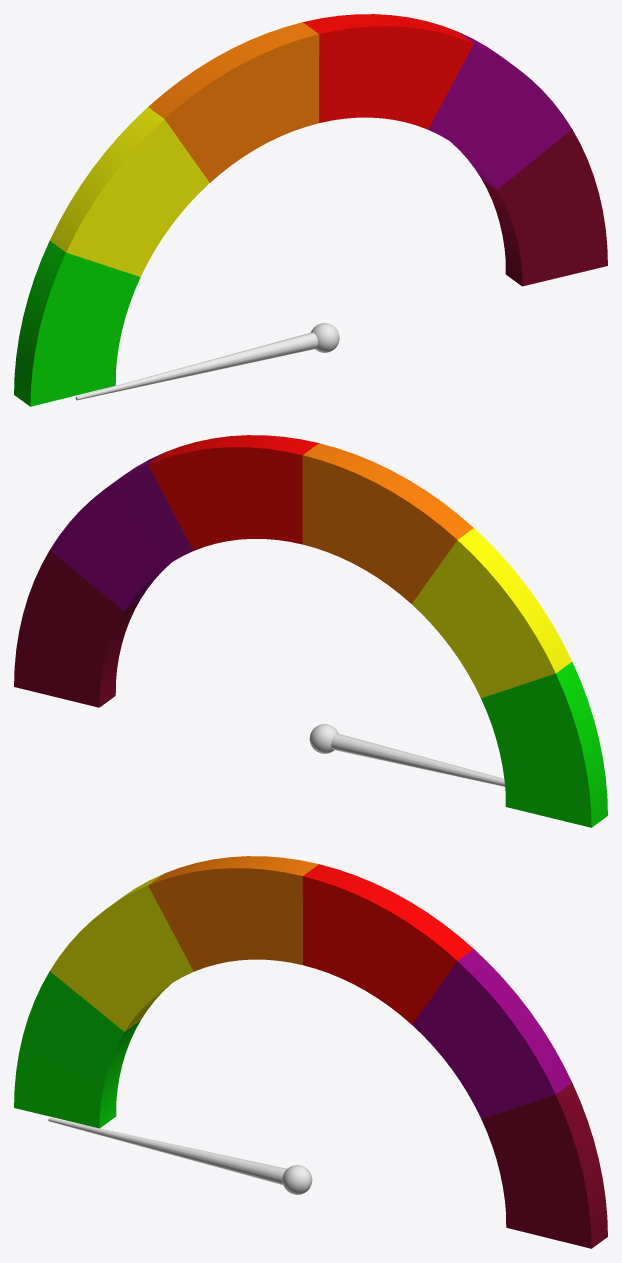
File: MeterSet.glb
The picture shows the model from 3 angles, top to bottom: view 1: azimuth 30°, elevation 25°; view 2: azimuth 150°, elevation 25°; view 3: azimuth 330°, elevation 25°; orthographic projection.
Parts seen in each view (by area): view 1: Readings, MeterHead; view 2: Readings, MeterHead; view 3: Readings, MeterHead.
Part boxes in pixels (x1,y1,x2,y2): Readings: (14, 14, 607, 406); MeterHead: (75, 323, 339, 400); Readings: (14, 435, 607, 827); MeterHead: (309, 724, 504, 786); Readings: (14, 856, 607, 1248); MeterHead: (48, 1117, 312, 1194).
Size of the model in its own units: 2.54 by 1.32 by 0.2248.
